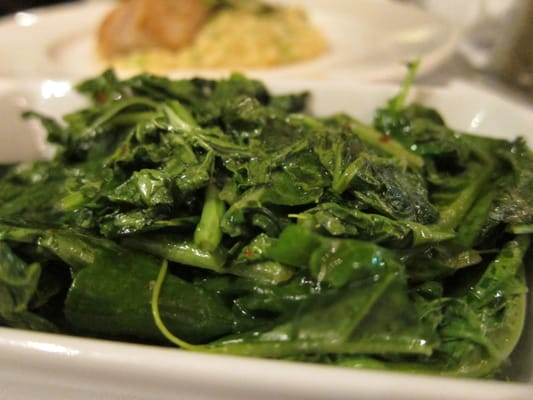curry: (4, 65, 529, 357)
